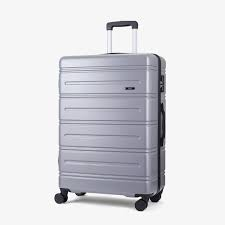suitcase: (52, 21, 168, 211)
